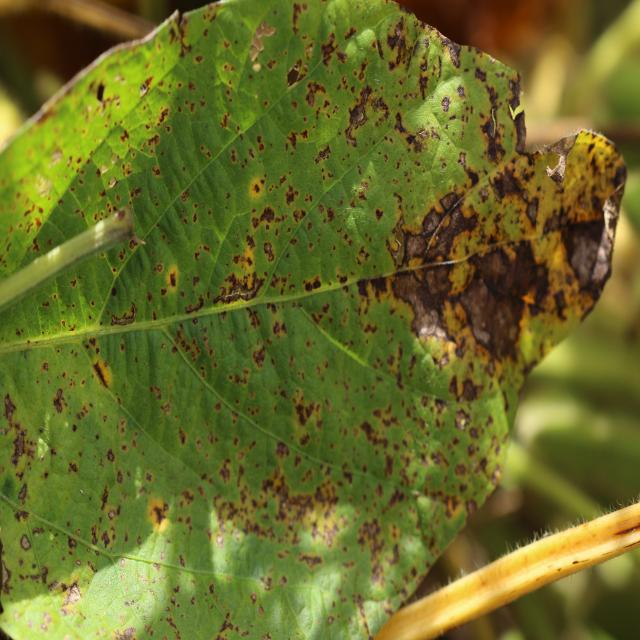Bacterial_Blight: (393, 178, 474, 352), (473, 227, 547, 359), (562, 208, 617, 303), (268, 477, 335, 537), (532, 130, 581, 196), (346, 84, 378, 146), (488, 163, 529, 208), (214, 274, 263, 305), (248, 20, 275, 69), (290, 393, 321, 431), (385, 16, 408, 56), (59, 583, 84, 616), (389, 219, 405, 263), (10, 429, 28, 468), (251, 204, 278, 230), (90, 360, 112, 390), (285, 126, 310, 152), (305, 80, 327, 109), (111, 303, 137, 327), (611, 162, 628, 196), (98, 90, 120, 116), (613, 519, 640, 537), (3, 392, 17, 424), (150, 503, 167, 527), (184, 294, 204, 314), (52, 388, 67, 414), (447, 42, 461, 69), (1, 556, 11, 593), (113, 625, 137, 639), (218, 459, 231, 484), (315, 144, 331, 164), (284, 185, 299, 206), (263, 241, 275, 263), (100, 485, 110, 511), (275, 440, 289, 458), (49, 149, 63, 166), (100, 530, 112, 549), (17, 482, 28, 502), (157, 106, 169, 124), (20, 533, 32, 551), (441, 95, 451, 112), (67, 536, 78, 551), (457, 152, 467, 168), (571, 557, 591, 565), (67, 461, 79, 474), (168, 271, 177, 287), (106, 448, 115, 463), (457, 84, 466, 99), (153, 262, 164, 274), (139, 82, 148, 96), (108, 177, 118, 188), (41, 361, 50, 373), (375, 208, 383, 221), (117, 470, 124, 484), (111, 154, 119, 164), (327, 615, 335, 625), (250, 593, 257, 603)
Soybean: (0, 1, 627, 640)
